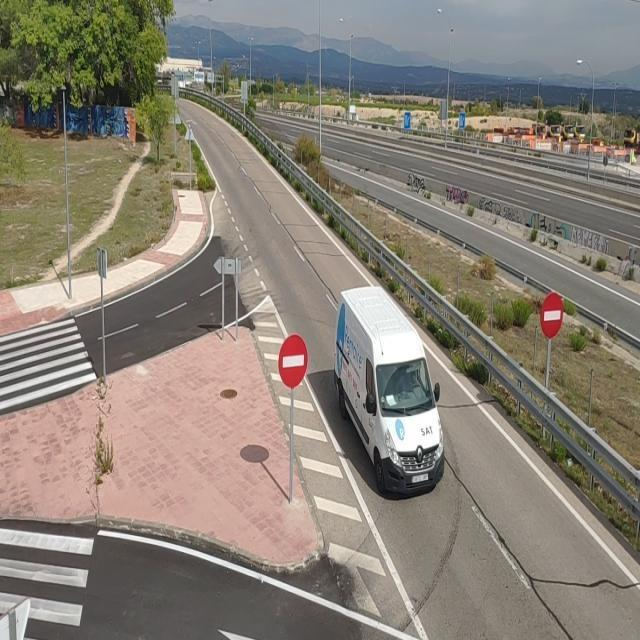Van: (319, 265, 451, 492)
